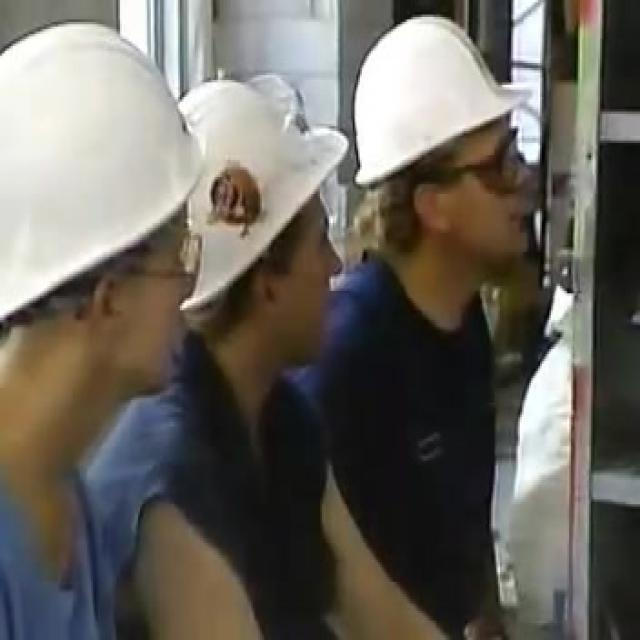Safety-Helmet: (2, 10, 209, 344), (169, 63, 349, 327), (346, 10, 536, 201)
